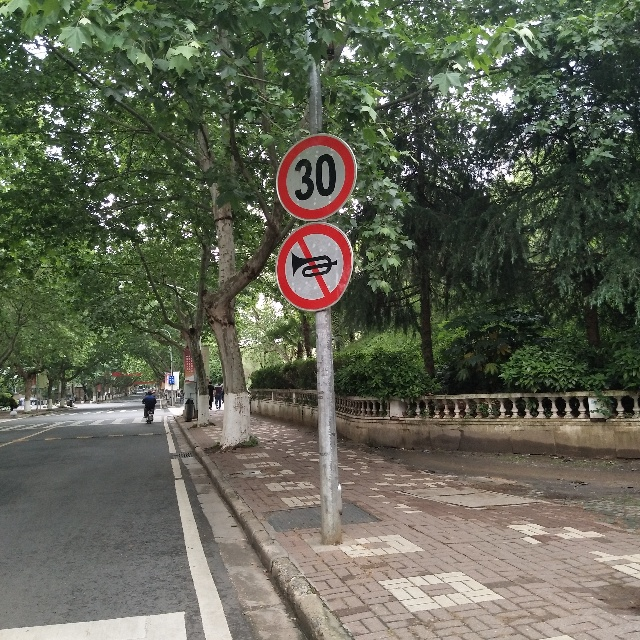nohonk: (279, 222, 354, 314)
